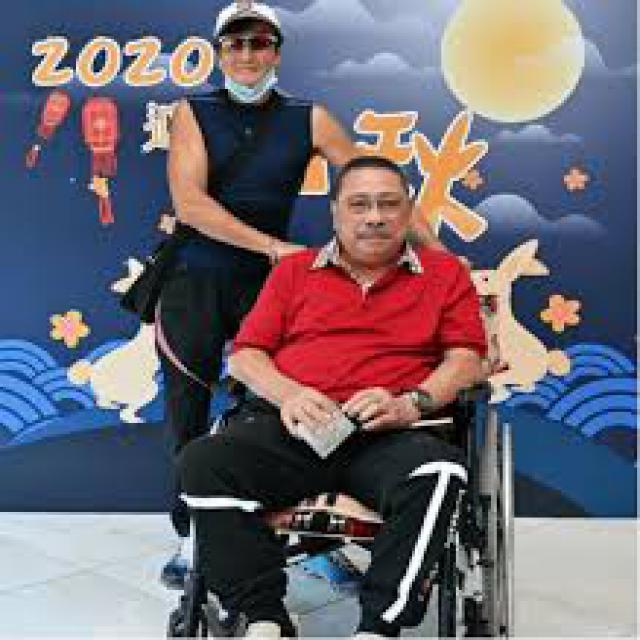wheelchairs: (152, 308, 556, 634)
